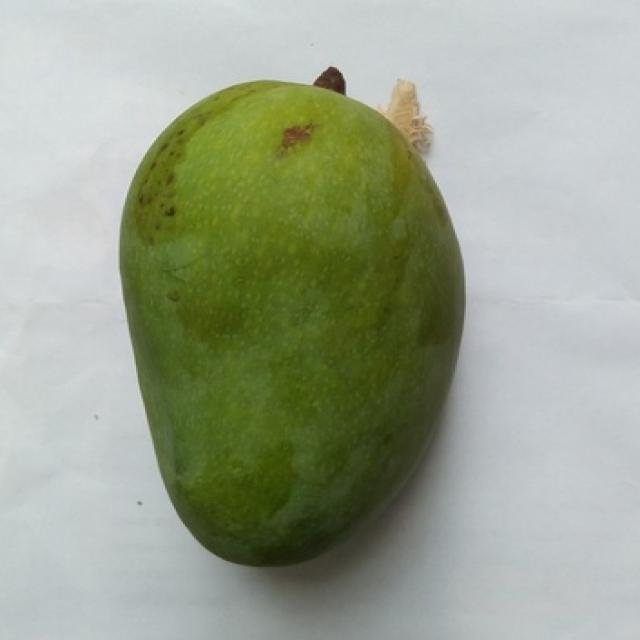Mango: (120, 83, 462, 564)
